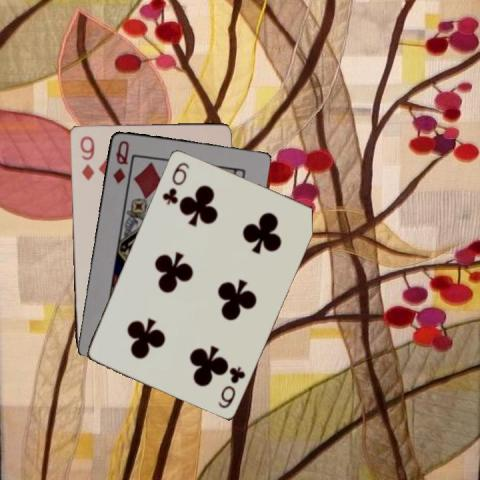6c: (159, 159, 191, 206), (214, 363, 246, 410)
9d: (78, 133, 96, 181)
Qd: (109, 137, 130, 185)
